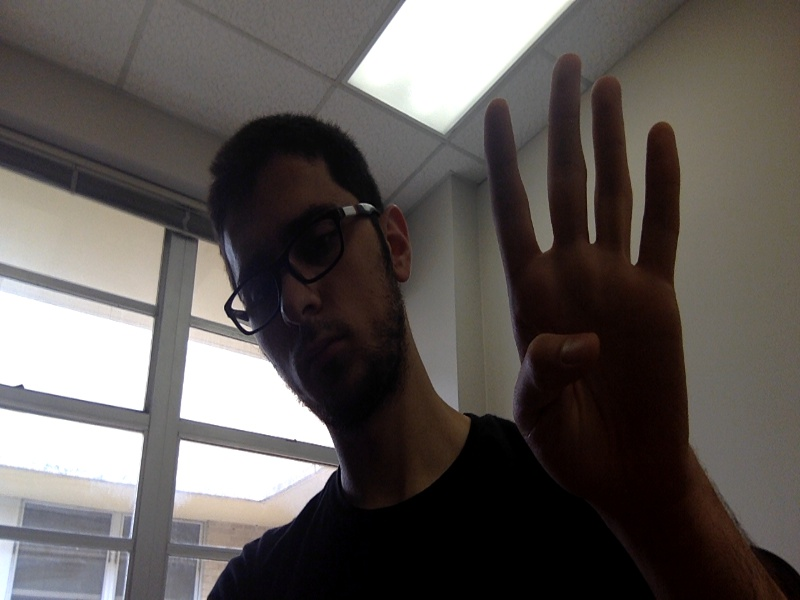5-hand: (482, 53, 683, 490)
